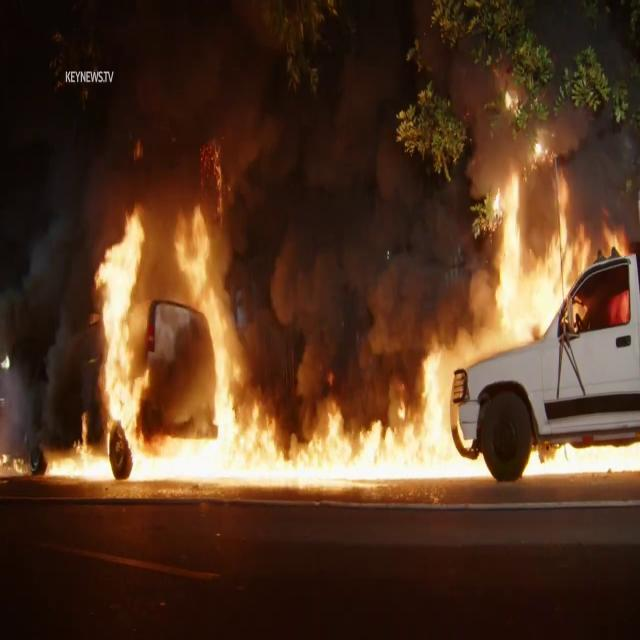Fire: (99, 157, 263, 463), (39, 386, 462, 493), (462, 126, 626, 345), (522, 432, 640, 474)
Smoke: (220, 22, 466, 392)
